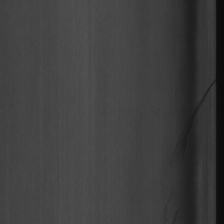water_spot: (165, 66, 215, 176)
